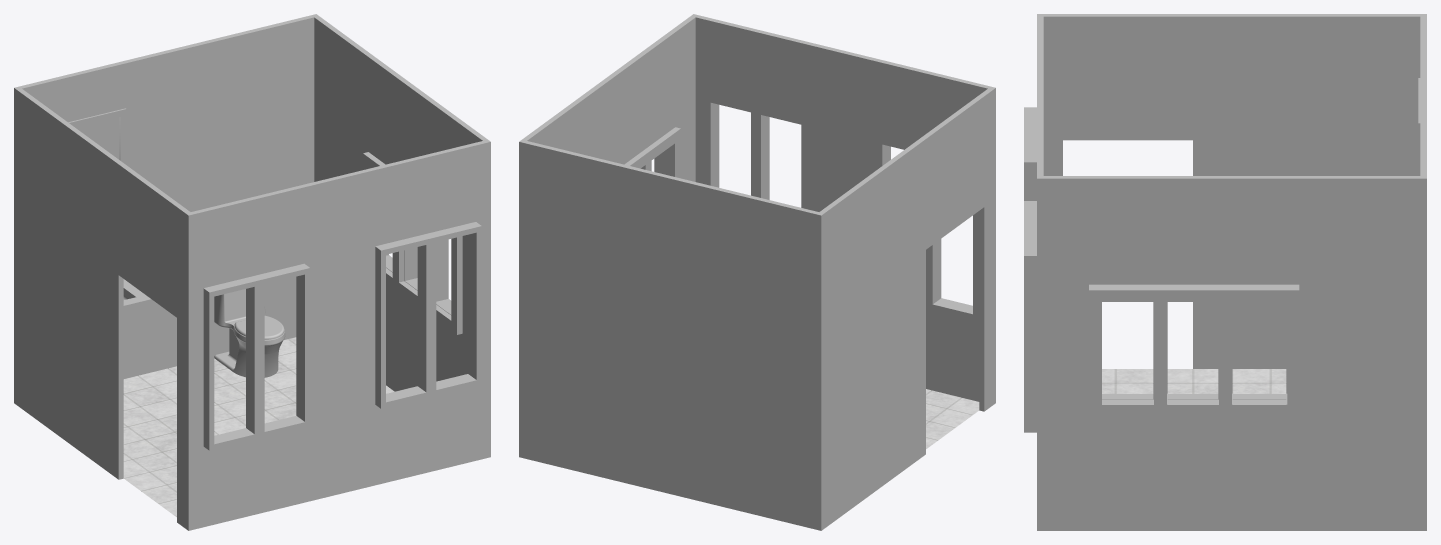
The model's file is bathroom_config_2.dae.
The picture shows the model from 3 angles, left to right: view 1: azimuth 30°, elevation 25°; view 2: azimuth 150°, elevation 25°; view 3: azimuth 270°, elevation 25°; orthographic projection. The views are drawn at different scales.
Parts seen in each view (by area): view 1: configuration_2; view 2: configuration_2; view 3: configuration_2.
Boxes of the visible parts, <box> form: configuration_2: <box>14,14,490,530</box>; configuration_2: <box>519,14,995,530</box>; configuration_2: <box>1024,14,1426,530</box>.
Bounding box in the file's own units: 3.1 × 3.1 × 2.99.
